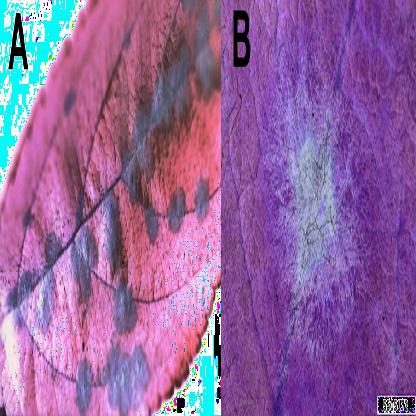apple scab leaf: (3, 1, 222, 415)
